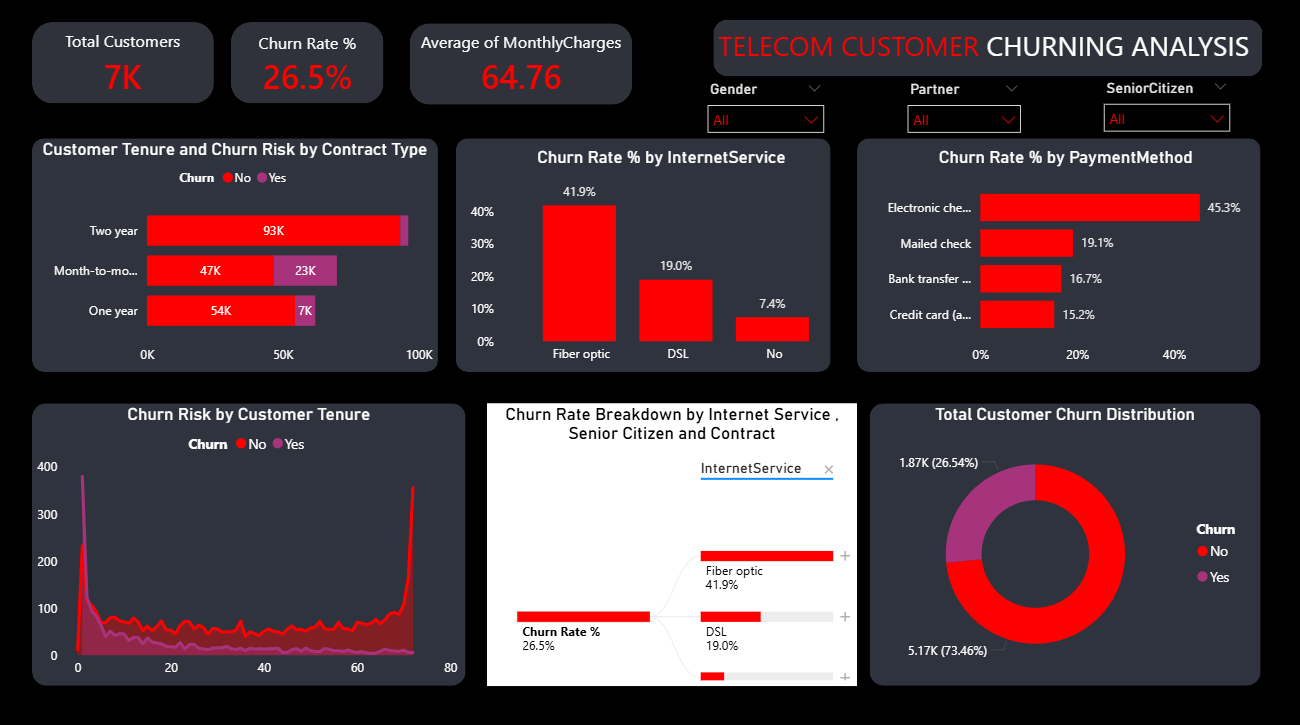

The dashboard page shown, as its layout file describes it:
{"tool":"powerbi","page":{"name":"Telecom Customer Churning Analysis","canvas":[1280,720],"ordinal":1},"visuals":[{"type":"shape","box":[856.4,398.8,384.1,277.3],"z":0},{"type":"shape","box":[586.5,398.8,257.7,277.3],"z":1000},{"type":"shape","box":[34.4,398.8,425.8,277.3],"z":2000},{"type":"shape","box":[844.2,138.7,396.3,229.4],"z":3000},{"type":"shape","box":[450.3,138.7,368.1,229.4],"z":4000},{"type":"shape","box":[34.4,138.7,398.8,229.4],"z":5000},{"type":"shape","box":[405.2,26.2,218.8,80],"z":6000},{"type":"shape","box":[229.7,25,150,80],"z":7000},{"type":"shape","box":[33.8,25,178.8,80],"z":8000},{"type":"shape","box":[702.5,21.7,539.2,55.8],"z":9000},{"type":"cardVisual","fields":{"Data":["WA_Fn-UseC_-Telco-Customer-Churn.Total Customers"]},"box":[33.8,11.2,178.8,108.8],"z":10000},{"type":"cardVisual","fields":{"Data":["WA_Fn-UseC_-Telco-Customer-Churn.Churn Rate %"]},"box":[226,15,158.8,102.5],"z":11000},{"type":"cardVisual","fields":{"Data":["Avg(WA_Fn-UseC_-Telco-Customer-Churn.MonthlyCharges)"]},"box":[386.5,6.2,256.2,118.8],"z":12000},{"type":"donutChart","title":"Total Customer Churn Distribution","fields":{"Category":["WA_Fn-UseC_-Telco-Customer-Churn.Churn"],"Y":["CountNonNull(WA_Fn-UseC_-Telco-Customer-Churn.customerID)"]},"box":[856.4,398.8,384.1,277.3],"z":13000},{"type":"barChart","title":"Customer Tenure and Churn Risk by Contract Type","fields":{"Category":["WA_Fn-UseC_-Telco-Customer-Churn.Contract"],"Series":["WA_Fn-UseC_-Telco-Customer-Churn.Churn"],"Y":["Sum(WA_Fn-UseC_-Telco-Customer-Churn.tenure)"]},"box":[34.4,138.7,398.8,230.7],"z":14000},{"type":"areaChart","title":"Churn Risk by Customer Tenure","fields":{"Category":["WA_Fn-UseC_-Telco-Customer-Churn.tenure"],"Y":["CountNonNull(WA_Fn-UseC_-Telco-Customer-Churn.customerID)"],"Series":["WA_Fn-UseC_-Telco-Customer-Churn.Churn"]},"box":[34.4,398.8,425.8,277.3],"z":15000},{"type":"clusteredBarChart","fields":{"Category":["WA_Fn-UseC_-Telco-Customer-Churn.PaymentMethod"],"Y":["WA_Fn-UseC_-Telco-Customer-Churn.Churn Rate %"]},"box":[856.4,147.2,385.3,222.1],"z":16000},{"type":"clusteredColumnChart","fields":{"Category":["WA_Fn-UseC_-Telco-Customer-Churn.InternetService"],"Y":["WA_Fn-UseC_-Telco-Customer-Churn.Churn Rate %"]},"box":[460.1,147.2,384.1,220.9],"z":17000},{"type":"decompositionTreeVisual","title":"Churn Rate Breakdown by Internet Service , Senior Citizen and Contract","fields":{"ExplainBy":["WA_Fn-UseC_-Telco-Customer-Churn.InternetService","WA_Fn-UseC_-Telco-Customer-Churn.SeniorCitizen","WA_Fn-UseC_-Telco-Customer-Churn.Contract"],"Analyze":["WA_Fn-UseC_-Telco-Customer-Churn.Churn Rate %"]},"box":[481,398.8,363.2,277.3],"z":18000},{"type":"slicer","fields":{"Values":["WA_Fn-UseC_-Telco-Customer-Churn.gender"]},"box":[687.5,77.3,134.5,61.7],"z":19000},{"type":"slicer","fields":{"Values":["WA_Fn-UseC_-Telco-Customer-Churn.SeniorCitizen"]},"box":[1075.8,75.9,144.1,63.1],"z":20000},{"type":"slicer","fields":{"Values":["WA_Fn-UseC_-Telco-Customer-Churn.Partner"]},"box":[883.7,77.3,131.7,61.7],"z":21000},{"type":"textbox","box":[702.5,25,540.8,50.8],"z":22000}]}

Visuals, with their boxes in screenshot pixels (x1, y1, x2, y2), scaled from the page's 1280x720 canvas onto the 1300x725 screenshot:
shape: detection(870, 402, 1260, 681)
shape: detection(596, 402, 857, 681)
shape: detection(35, 402, 467, 681)
shape: detection(857, 140, 1260, 371)
shape: detection(457, 140, 831, 371)
shape: detection(35, 140, 440, 371)
shape: detection(412, 26, 634, 107)
shape: detection(233, 25, 386, 106)
shape: detection(34, 25, 216, 106)
shape: detection(713, 22, 1261, 78)
cardVisual - WA_Fn-UseC_-Telco-Customer-Churn.Total Customers: detection(34, 11, 216, 121)
cardVisual - WA_Fn-UseC_-Telco-Customer-Churn.Churn Rate %: detection(230, 15, 391, 118)
cardVisual - Avg(WA_Fn-UseC_-Telco-Customer-Churn.MonthlyCharges): detection(393, 6, 653, 126)
"Total Customer Churn Distribution" donutChart: detection(870, 402, 1260, 681)
"Customer Tenure and Churn Risk by Contract Type" barChart: detection(35, 140, 440, 372)
"Churn Risk by Customer Tenure" areaChart: detection(35, 402, 467, 681)
clusteredBarChart - WA_Fn-UseC_-Telco-Customer-Churn.PaymentMethod x WA_Fn-UseC_-Telco-Customer-Churn.Churn Rate %: detection(870, 148, 1261, 372)
clusteredColumnChart - WA_Fn-UseC_-Telco-Customer-Churn.InternetService x WA_Fn-UseC_-Telco-Customer-Churn.Churn Rate %: detection(467, 148, 857, 371)
"Churn Rate Breakdown by Internet Service , Senior Citizen and Contract" decompositionTreeVisual: detection(489, 402, 857, 681)
slicer - WA_Fn-UseC_-Telco-Customer-Churn.gender: detection(698, 78, 835, 140)
slicer - WA_Fn-UseC_-Telco-Customer-Churn.SeniorCitizen: detection(1093, 76, 1239, 140)
slicer - WA_Fn-UseC_-Telco-Customer-Churn.Partner: detection(898, 78, 1031, 140)
textbox: detection(713, 25, 1263, 76)
